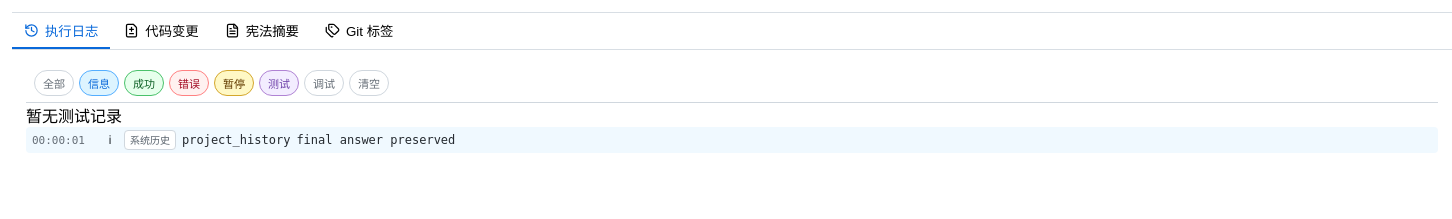
it: TaskConsole task navigation › hides thought and debug output by default and reveals it only through the debug filter
The width and height of the screenshot is (1452, 219).
Check: the text "private chain thought" is not shown
Check: the text "live hidden thought" is not shown
Click the button "调试" at (324, 83), box [304,70,344,96]
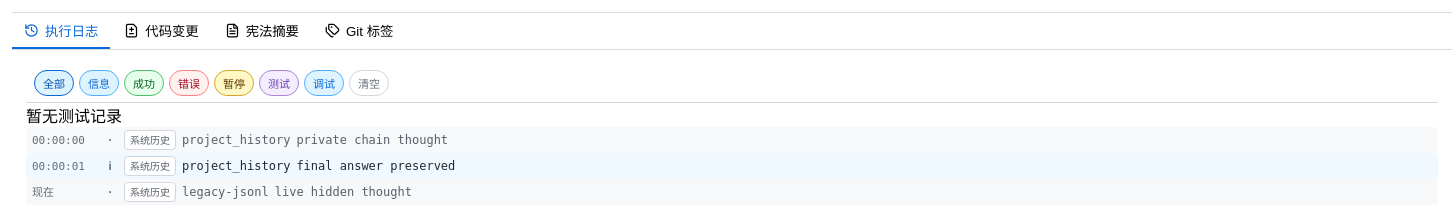
Check: the text "private chain thought" is shown, box [296,132,448,149]
Check: the text "live hidden thought" is shown, box [275,184,412,201]
